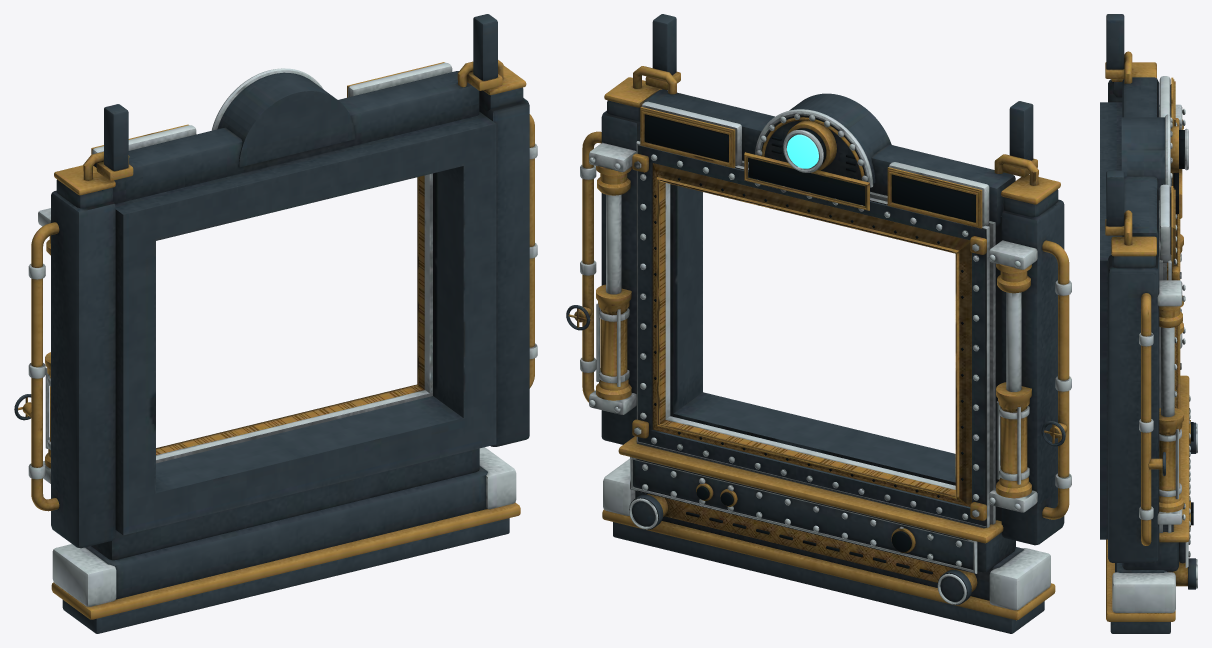
3 views of the same model, side by side, from view 1: azimuth 30°, elevation 25°; view 2: azimuth 150°, elevation 25°; view 3: azimuth 270°, elevation 25° (orthographic). The views are drawn at different scales.
Parts seen in each view (by area): view 1: Armored_graphite_steel, Warm_piston_brass, Machined_chrome, Engraved_brass_diamond_tooling; view 2: Armored_graphite_steel, Warm_piston_brass, Machined_chrome, Engraved_brass_diamond_tooling, Black_enamel_panels, glow_Turquoise_headlamp; view 3: Armored_graphite_steel, Warm_piston_brass, Machined_chrome, Black_enamel_panels, Engraved_brass_diamond_tooling.
Part boxes in pixels (x1=…): Armored_graphite_steel: x1=14, y1=14, x2=529, y2=633; Warm_piston_brass: x1=18, y1=60, x2=534, y2=619; Machined_chrome: x1=28, y1=62, x2=537, y2=606; Engraved_brass_diamond_tooling: x1=156, y1=175, x2=424, y2=454; Armored_graphite_steel: x1=566, y1=14, x2=1065, y2=633; Warm_piston_brass: x1=568, y1=66, x2=1069, y2=620; Machined_chrome: x1=580, y1=101, x2=1071, y2=610; Engraved_brass_diamond_tooling: x1=652, y1=163, x2=971, y2=582; Black_enamel_panels: x1=644, y1=114, x2=975, y2=574; glow_Turquoise_headlamp: x1=787, y1=134, x2=818, y2=168; Armored_graphite_steel: x1=1100, y1=14, x2=1195, y2=633; Warm_piston_brass: x1=1105, y1=51, x2=1190, y2=621; Machined_chrome: x1=1112, y1=76, x2=1197, y2=612; Black_enamel_panels: x1=1170, y1=84, x2=1193, y2=525; Engraved_brass_diamond_tooling: x1=1167, y1=173, x2=1177, y2=572.
Bounding box in the file's own units: 11.55 × 11.1 × 2.18.
Materials: 6 (5 with a texture image).
